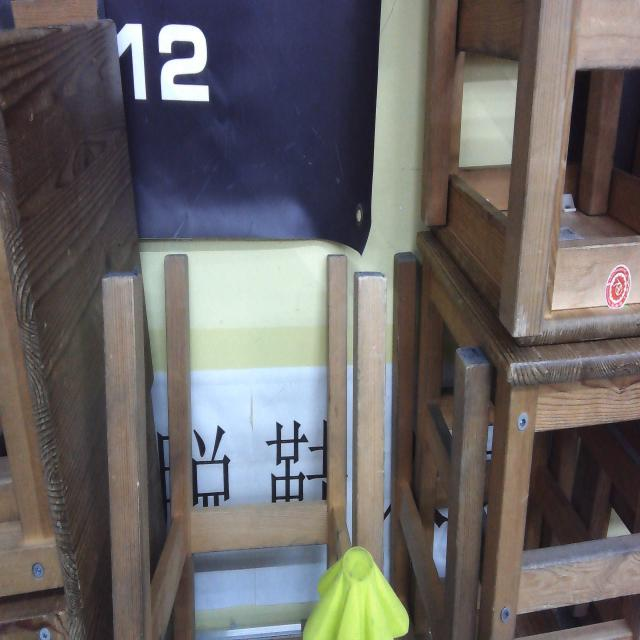Yellow-Stake-Head: (302, 546, 410, 639)
